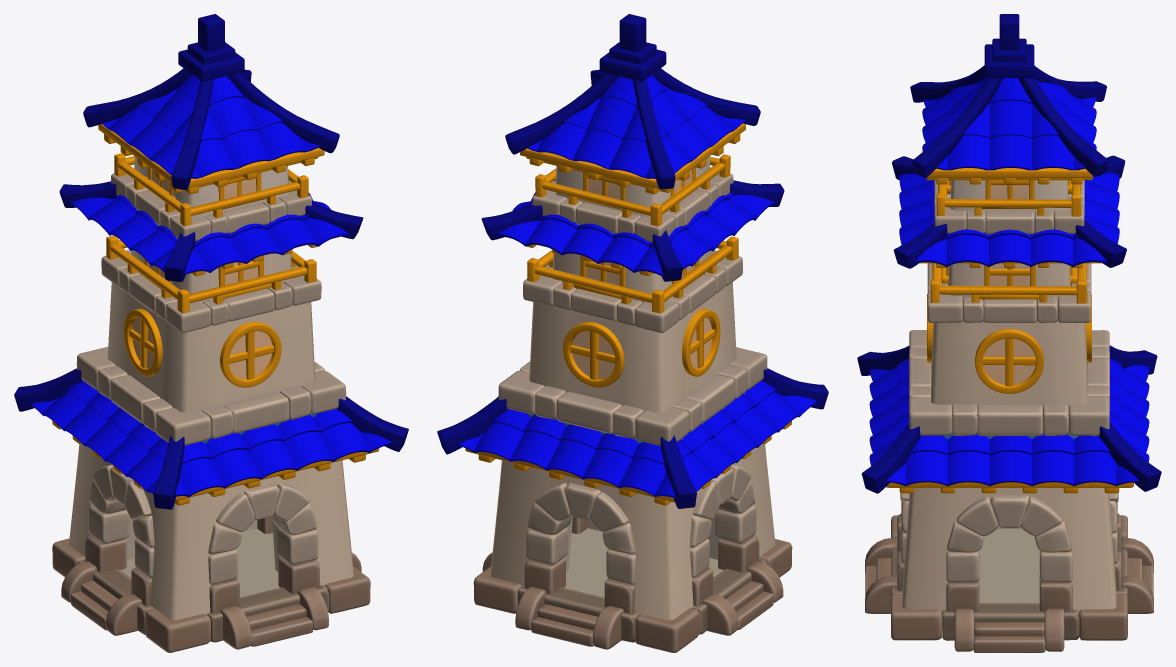
File: building_058_FGH_Tower.fbx
3 views of the same model, side by side, from view 1: azimuth 30°, elevation 25°; view 2: azimuth 150°, elevation 25°; view 3: azimuth 270°, elevation 25° (orthographic).
Visible parts, largest first — view 1: building_058_FGH_Tower; view 2: building_058_FGH_Tower; view 3: building_058_FGH_Tower.
Part boxes in pixels (<box>): building_058_FGH_Tower: <box>14,14,408,652</box>; building_058_FGH_Tower: <box>437,14,828,652</box>; building_058_FGH_Tower: <box>857,14,1161,652</box>.
Size of the model in its own units: 318 by 662 by 318.
